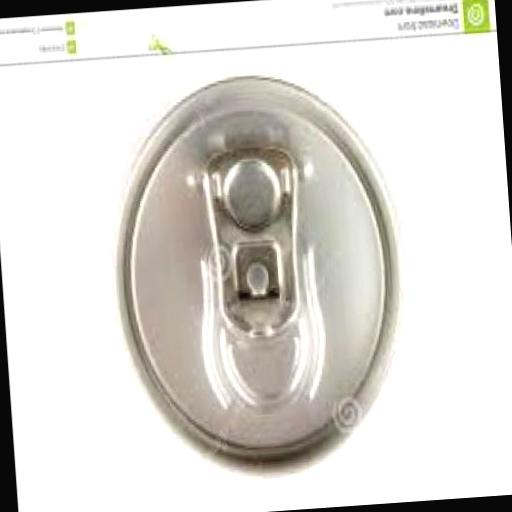metal: (106, 70, 416, 489)
